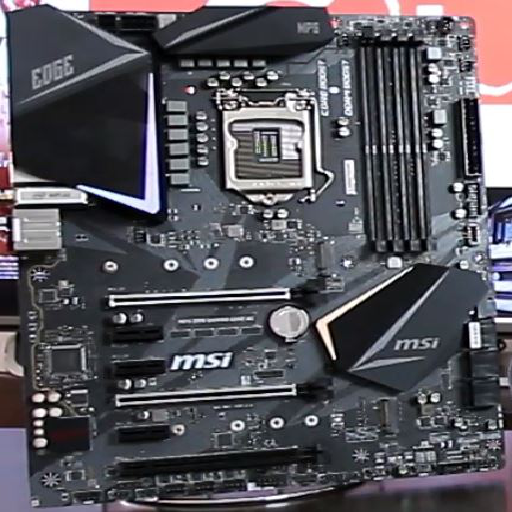CPU: (216, 87, 323, 206)
GPU: (112, 444, 321, 479), (114, 383, 295, 409), (106, 287, 292, 309)
MOTHERBOARD: (6, 5, 505, 474)
RAM: (352, 26, 438, 254)
SSD: (381, 396, 400, 434), (313, 243, 337, 268)
